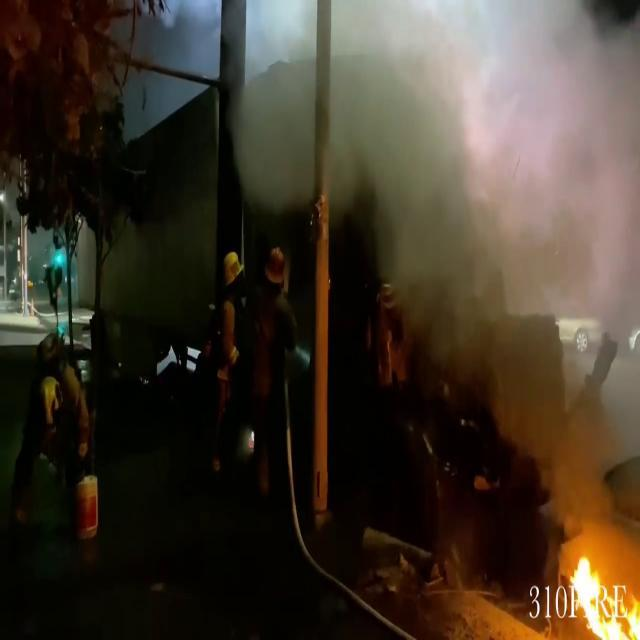Fire: (563, 548, 640, 639)
Smoke: (335, 0, 640, 480)
